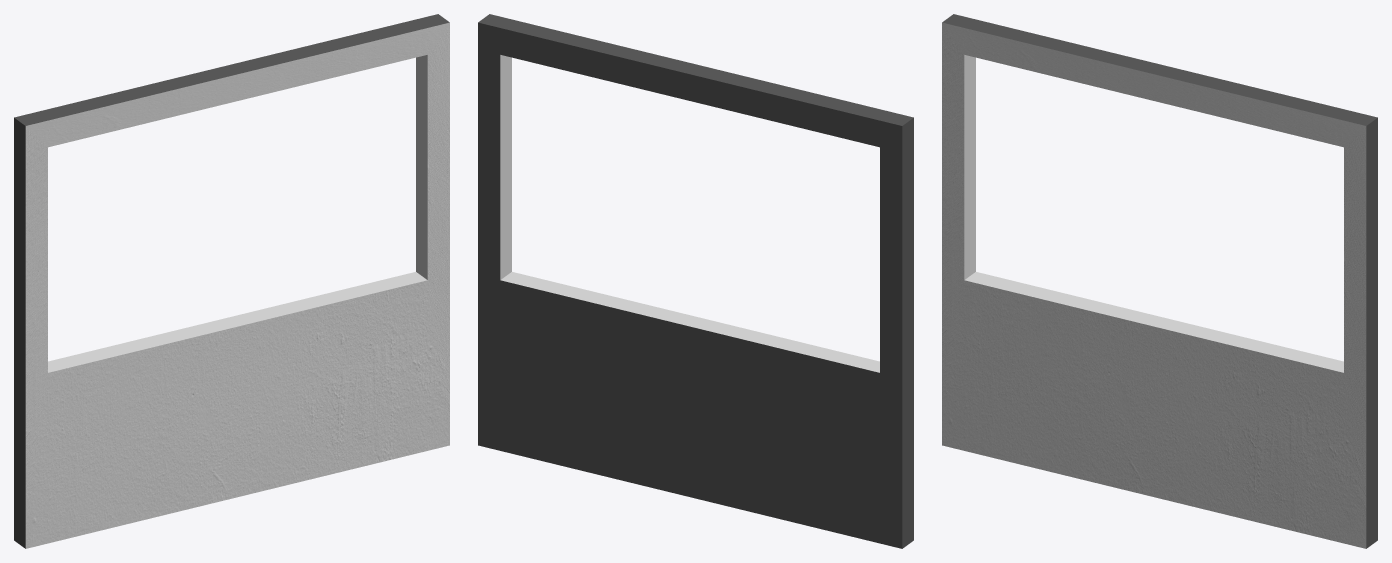
The model's file is Wall_9.fbx.
The picture shows the model from 3 angles, left to right: view 1: azimuth 30°, elevation 25°; view 2: azimuth 150°, elevation 25°; view 3: azimuth 330°, elevation 25°; orthographic projection.
Visible parts, largest first — view 1: Wall_9; view 2: Wall_9; view 3: Wall_9.
Part boxes in pixels (x1,y1,x2,y2): Wall_9: (14,14,449,548); Wall_9: (478,14,913,548); Wall_9: (942,14,1377,548).
Bounding box in the file's own units: 210 × 200 × 10.
